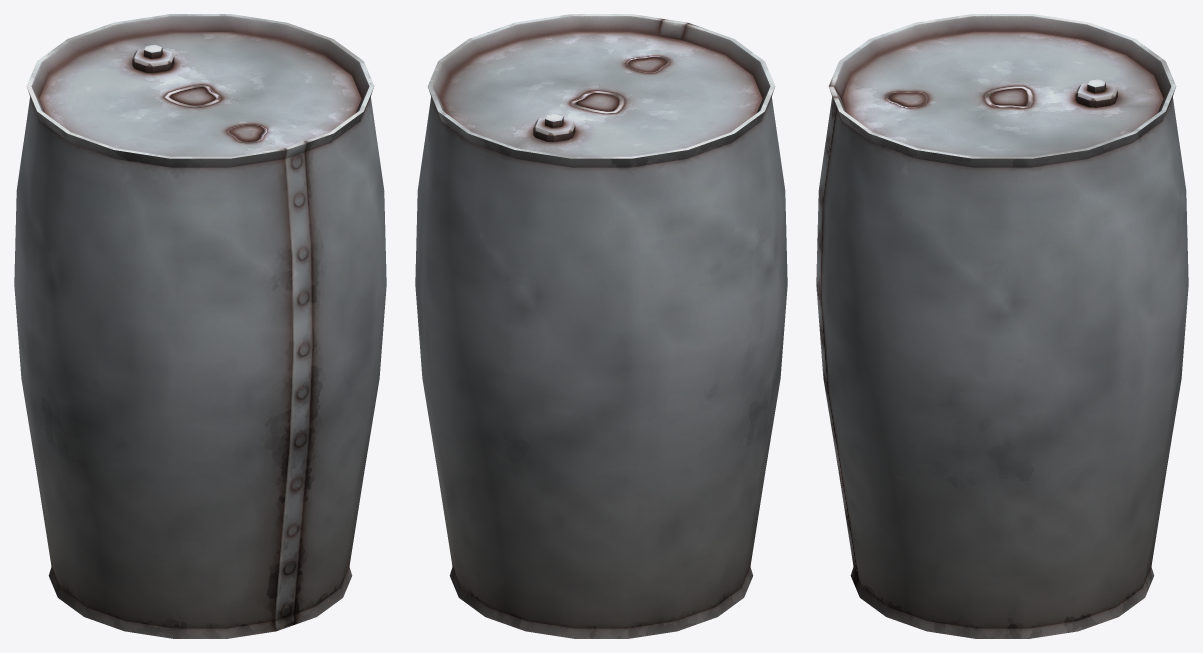
The model's file is BarrelMetallic02.FBX.
3 views of the same model, side by side, from view 1: azimuth 30°, elevation 25°; view 2: azimuth 150°, elevation 25°; view 3: azimuth 270°, elevation 25° (orthographic).
Visible parts, largest first — view 1: BarrelMetallic02; view 2: BarrelMetallic02; view 3: BarrelMetallic02.
Boxes of the visible parts, box(x1,y1,x2,y2) form: BarrelMetallic02: box(14, 14, 386, 638); BarrelMetallic02: box(415, 14, 787, 638); BarrelMetallic02: box(816, 14, 1188, 638).
Size of what is drawn, in the model's own units: 0.7318 by 1.08 by 0.7431.
